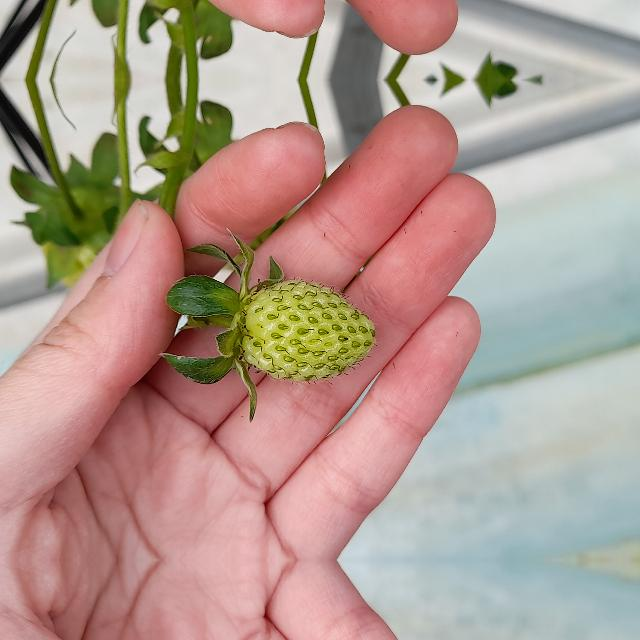Health_25: (242, 277, 376, 381)
